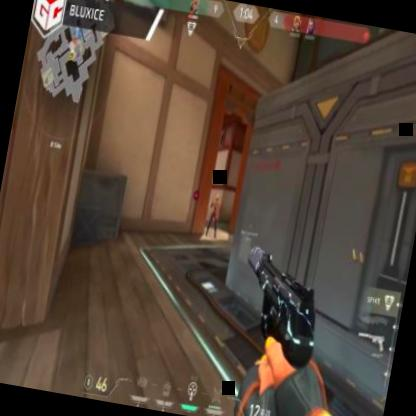enemy: (205, 193, 221, 239)
enemy_head: (213, 193, 220, 203)
